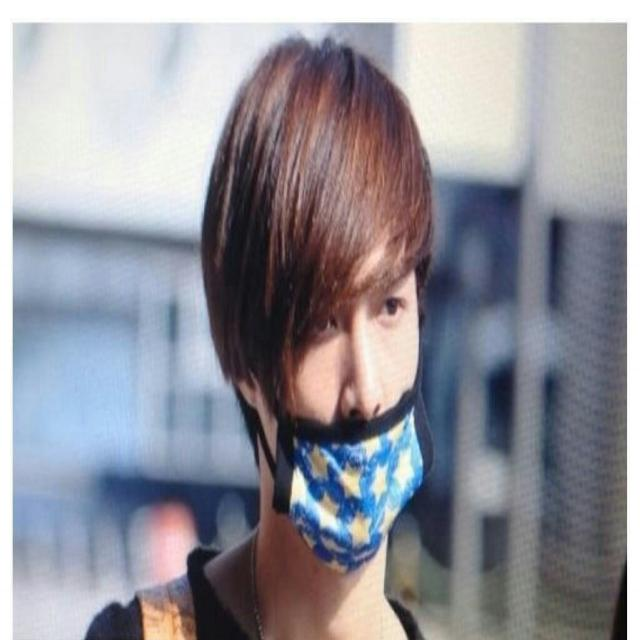mask: (239, 170, 433, 567)
